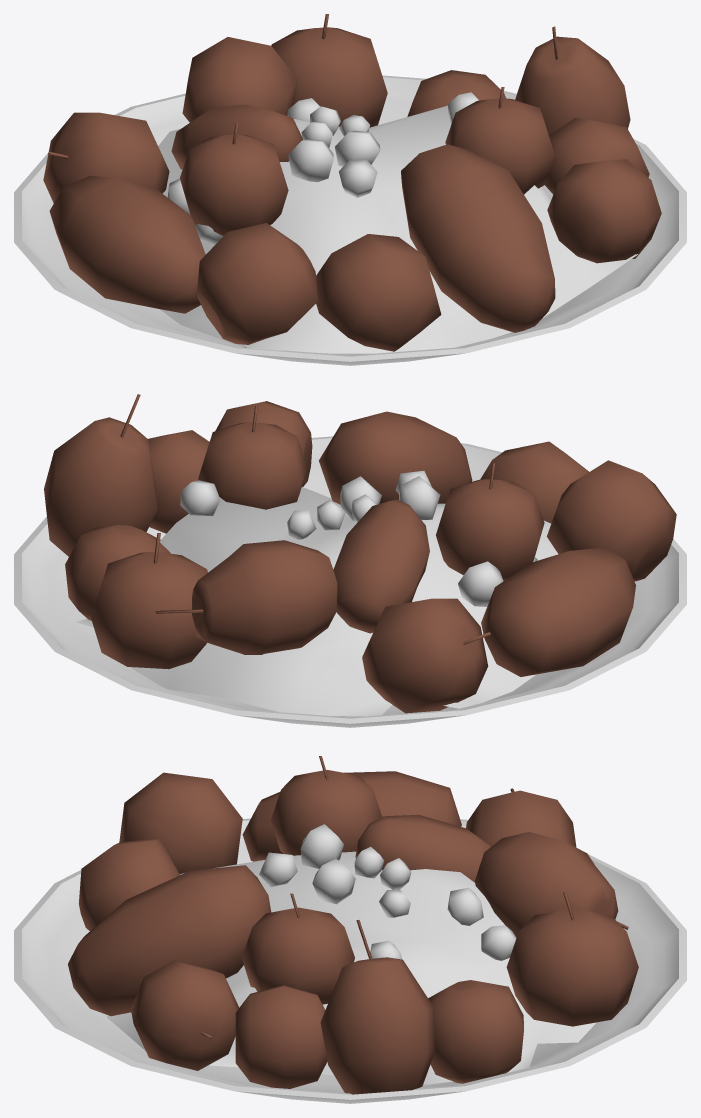
The model's file is ZSXGPJSG01.FBX.
The picture shows the model from 3 angles, top to bottom: view 1: azimuth 30°, elevation 25°; view 2: azimuth 150°, elevation 25°; view 3: azimuth 270°, elevation 25°; orthographic projection.
Visible parts, largest first — view 1: ZSXGPJSG01; view 2: ZSXGPJSG01; view 3: ZSXGPJSG01.
Boxes of the visible parts, x1,y1,x2,y2 form: ZSXGPJSG01: (14,14,686,365); ZSXGPJSG01: (14,394,686,727); ZSXGPJSG01: (14,756,686,1103).
Size of the model in its own units: 30.15 by 29.69 by 10.4.
